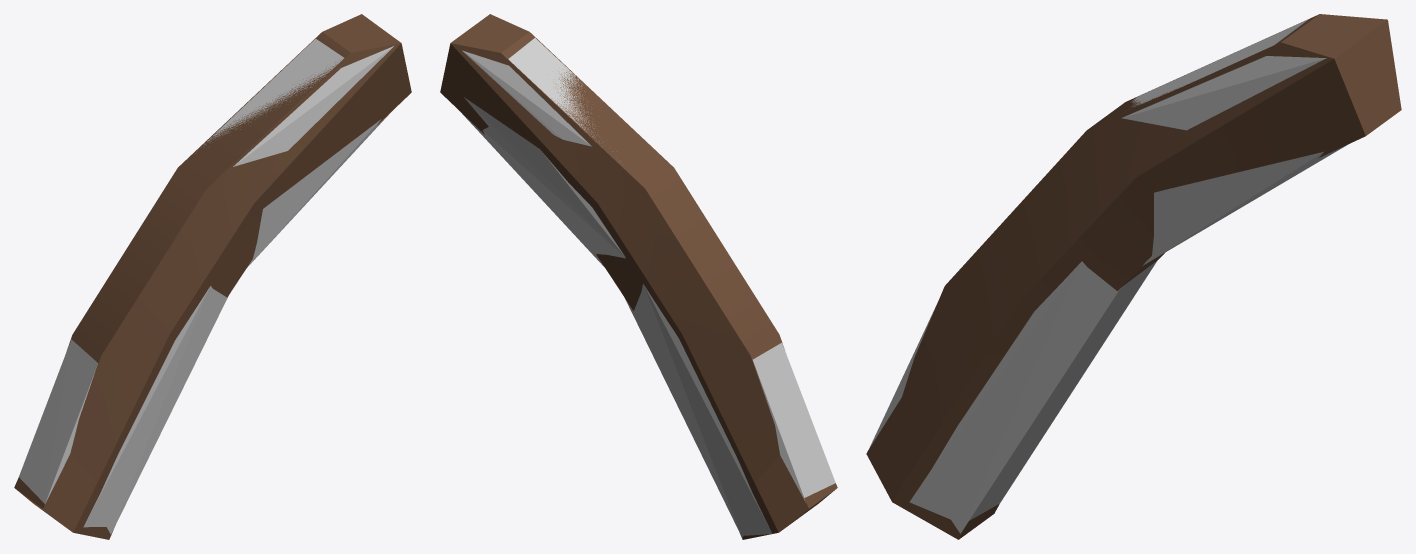
The model's file is SM_Bld_Roof_End_Concave_Small_02.fbx.
3 renders of one model, left to right at view 1: azimuth 30°, elevation 25°; view 2: azimuth 150°, elevation 25°; view 3: azimuth 330°, elevation 25°, orthographic. The views are drawn at different scales.
Visible parts, largest first — view 1: SM_Bld_Roof_End_Concave_Small_02, SM_Bld_Roof_End_Concave_Small_02_ConvexHulls; view 2: SM_Bld_Roof_End_Concave_Small_02, SM_Bld_Roof_End_Concave_Small_02_ConvexHulls; view 3: SM_Bld_Roof_End_Concave_Small_02, SM_Bld_Roof_End_Concave_Small_02_ConvexHulls.
Part boxes in pixels (x1,y1,x2,y2): SM_Bld_Roof_End_Concave_Small_02: [14, 14, 411, 539]; SM_Bld_Roof_End_Concave_Small_02_ConvexHulls: [19, 38, 393, 534]; SM_Bld_Roof_End_Concave_Small_02: [440, 14, 837, 539]; SM_Bld_Roof_End_Concave_Small_02_ConvexHulls: [460, 38, 835, 537]; SM_Bld_Roof_End_Concave_Small_02: [866, 14, 1401, 539]; SM_Bld_Roof_End_Concave_Small_02_ConvexHulls: [869, 19, 1346, 533].
Bounding box in the file's own units: 154 × 28.6 × 171.
Materials: 2 (1 with a texture image).
